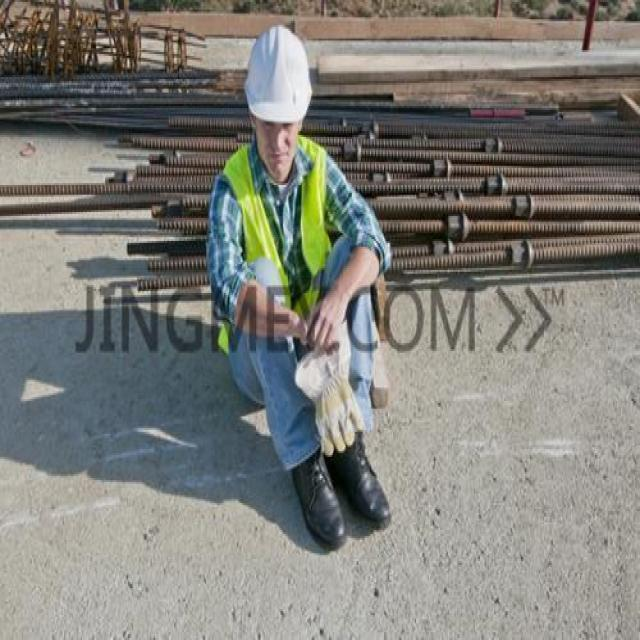white helmet: (229, 24, 326, 126)
